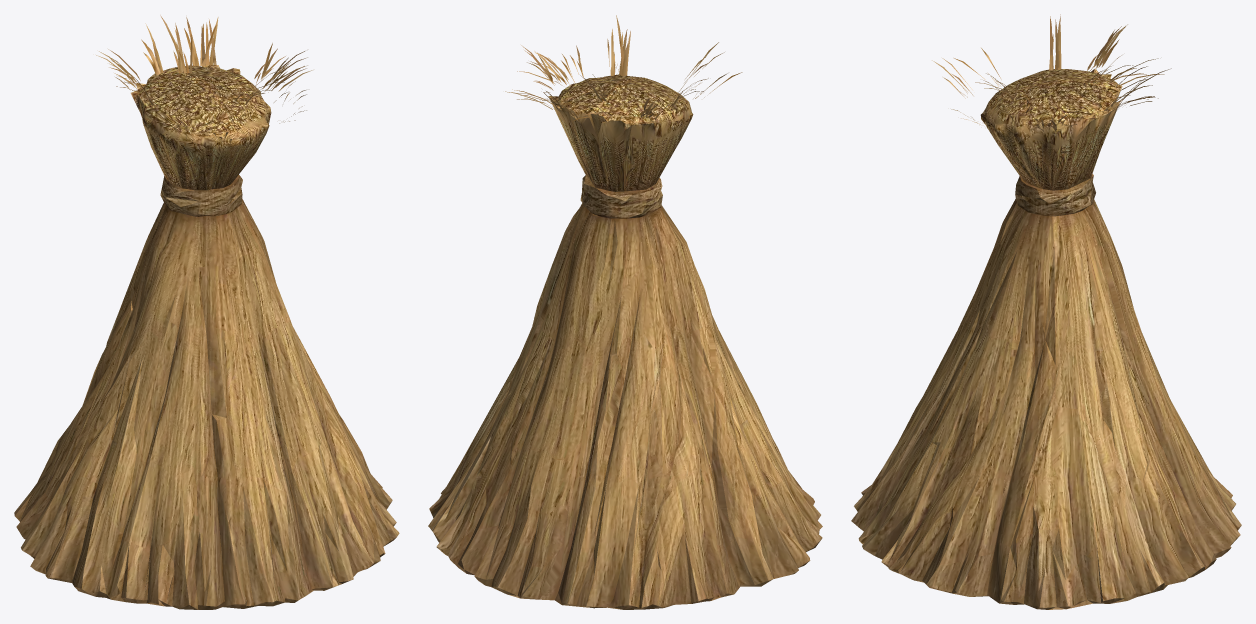
The model's file is prop_haystack.4e287472.glb.
3 views of the same model, side by side, from view 1: azimuth 30°, elevation 25°; view 2: azimuth 150°, elevation 25°; view 3: azimuth 270°, elevation 25° (orthographic).
Parts seen in each view (by area): view 1: tripo_node_6810d417-280b-470f-8d16-c5b29702543d; view 2: tripo_node_6810d417-280b-470f-8d16-c5b29702543d; view 3: tripo_node_6810d417-280b-470f-8d16-c5b29702543d.
Boxes of the visible parts, bbox=[...] form: tripo_node_6810d417-280b-470f-8d16-c5b29702543d: bbox=[14, 15, 399, 609]; tripo_node_6810d417-280b-470f-8d16-c5b29702543d: bbox=[428, 15, 822, 609]; tripo_node_6810d417-280b-470f-8d16-c5b29702543d: bbox=[851, 14, 1241, 609].
Size of the model in its own units: 1.78 by 2.35 by 1.74.
Materials: 1 (1 with a texture image).
